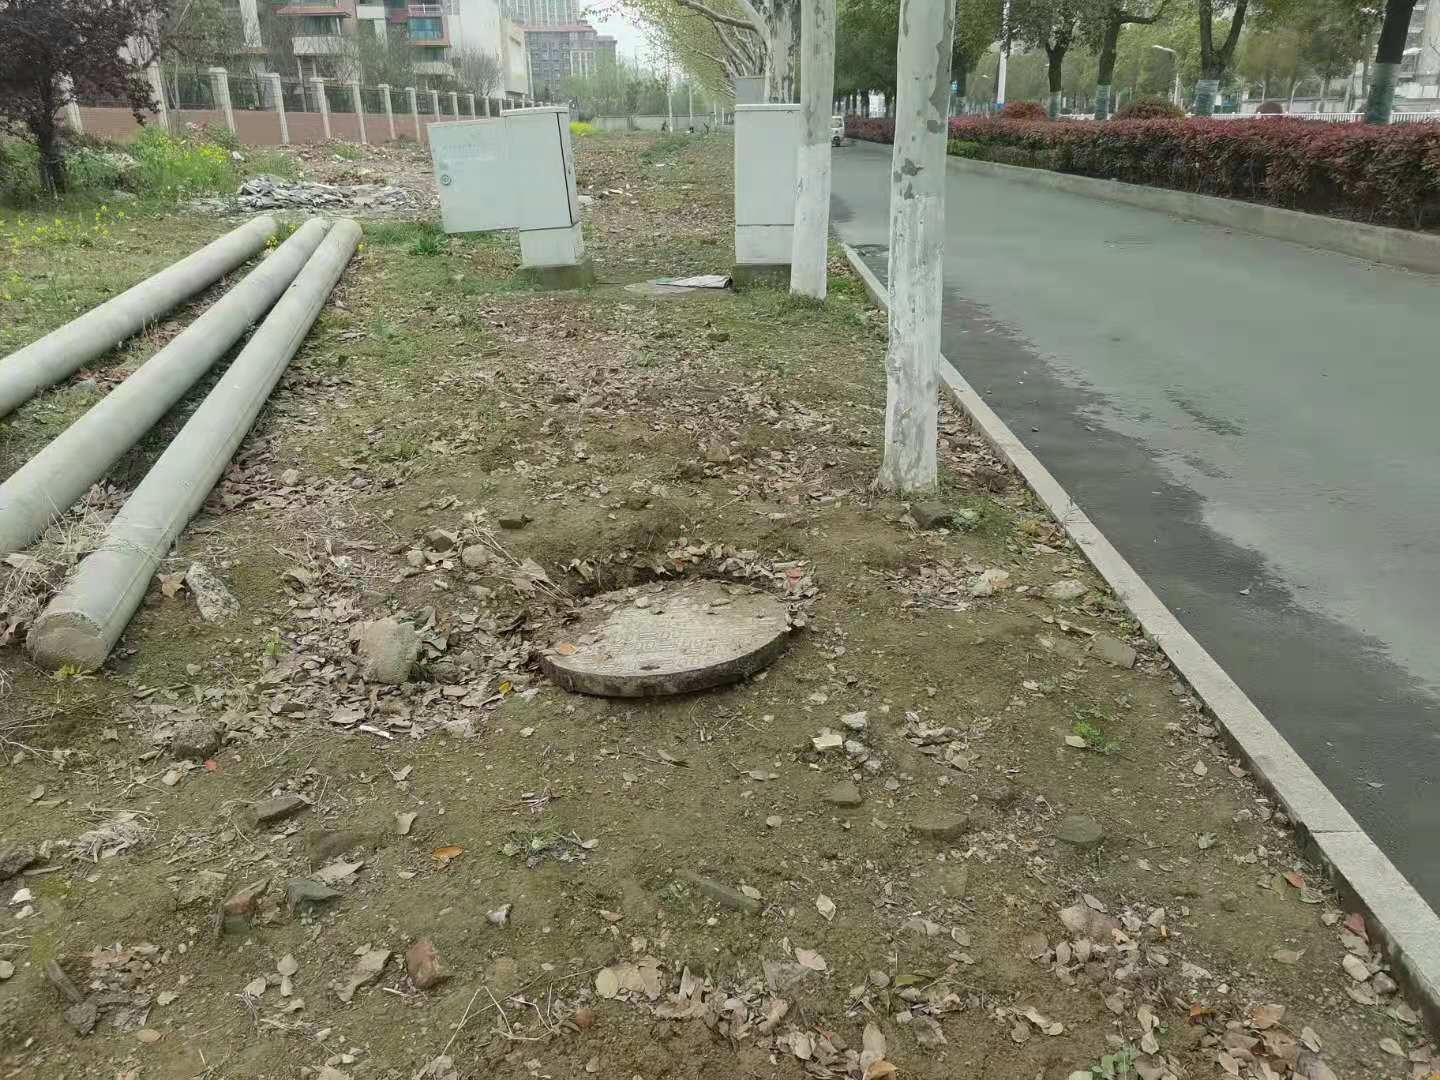uncovered: (532, 584, 791, 703)
